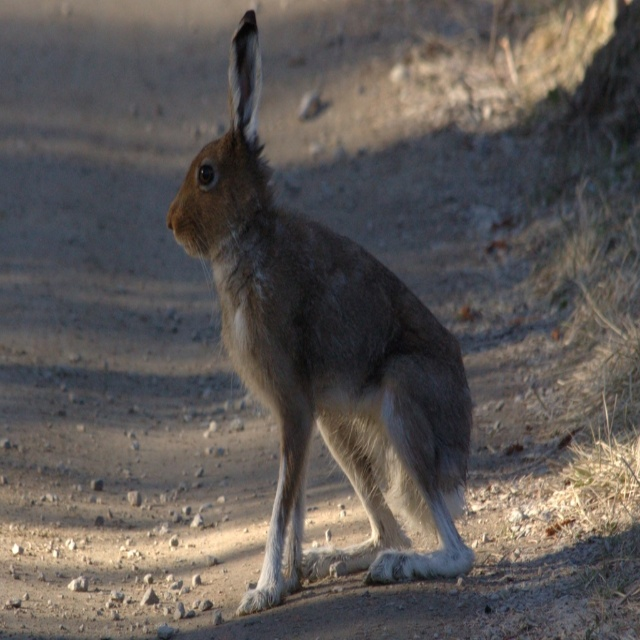Rabbit: (167, 11, 473, 617)
